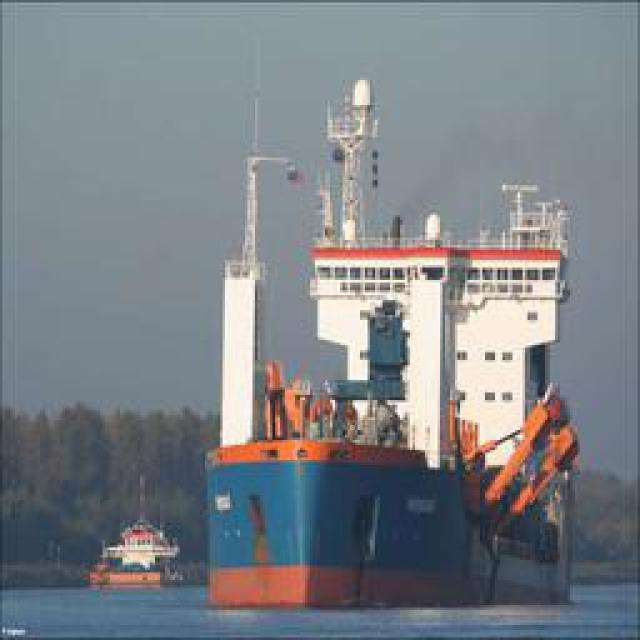Ship: (204, 109, 597, 618), (89, 520, 182, 590)
